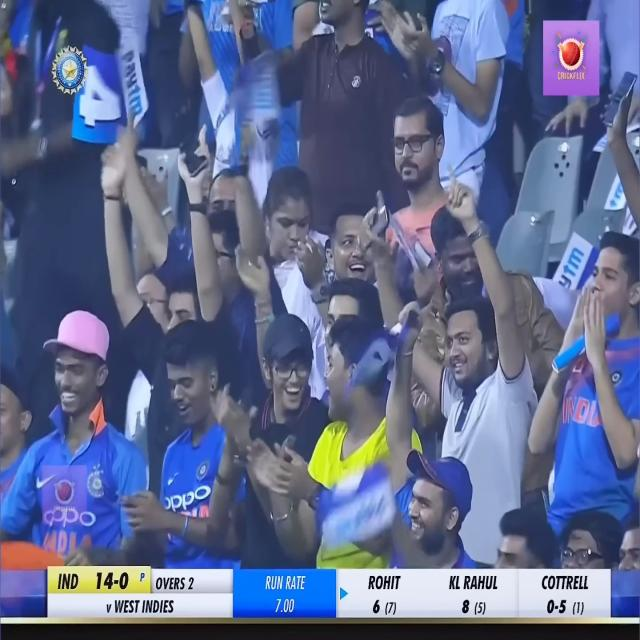partially_visible: (111, 31, 154, 124), (553, 232, 588, 300)
